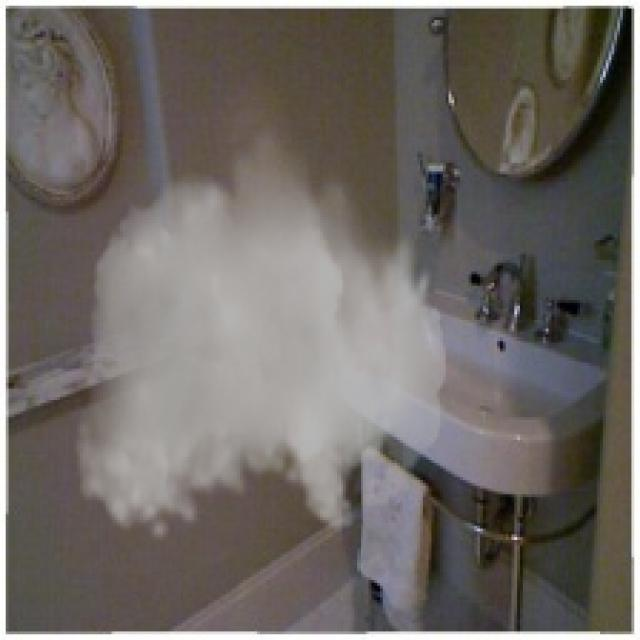smoke: (74, 120, 446, 543)
